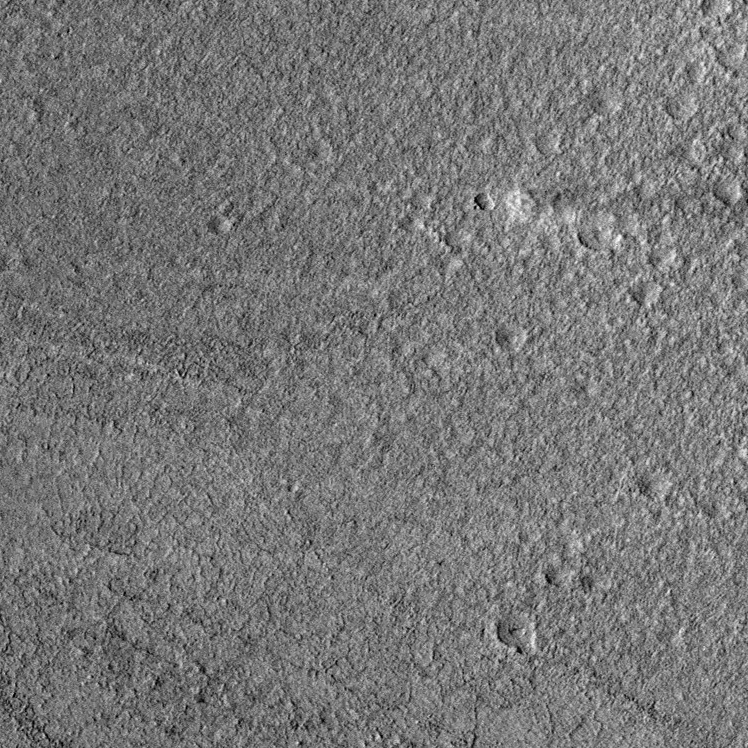dust_devil: (500, 183, 748, 238)
